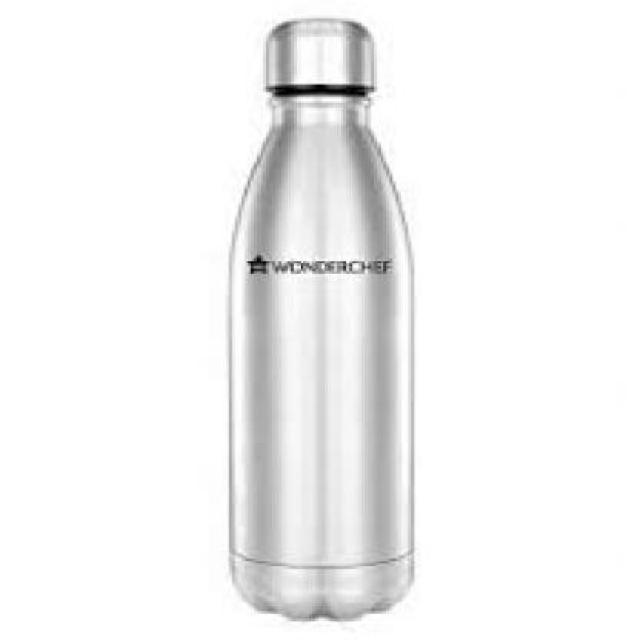Drinking: (204, 8, 436, 632)
